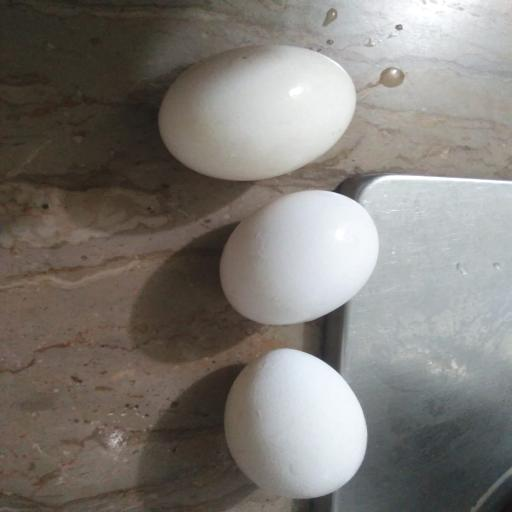telur: (158, 45, 356, 181), (224, 349, 367, 499), (220, 190, 378, 325)
